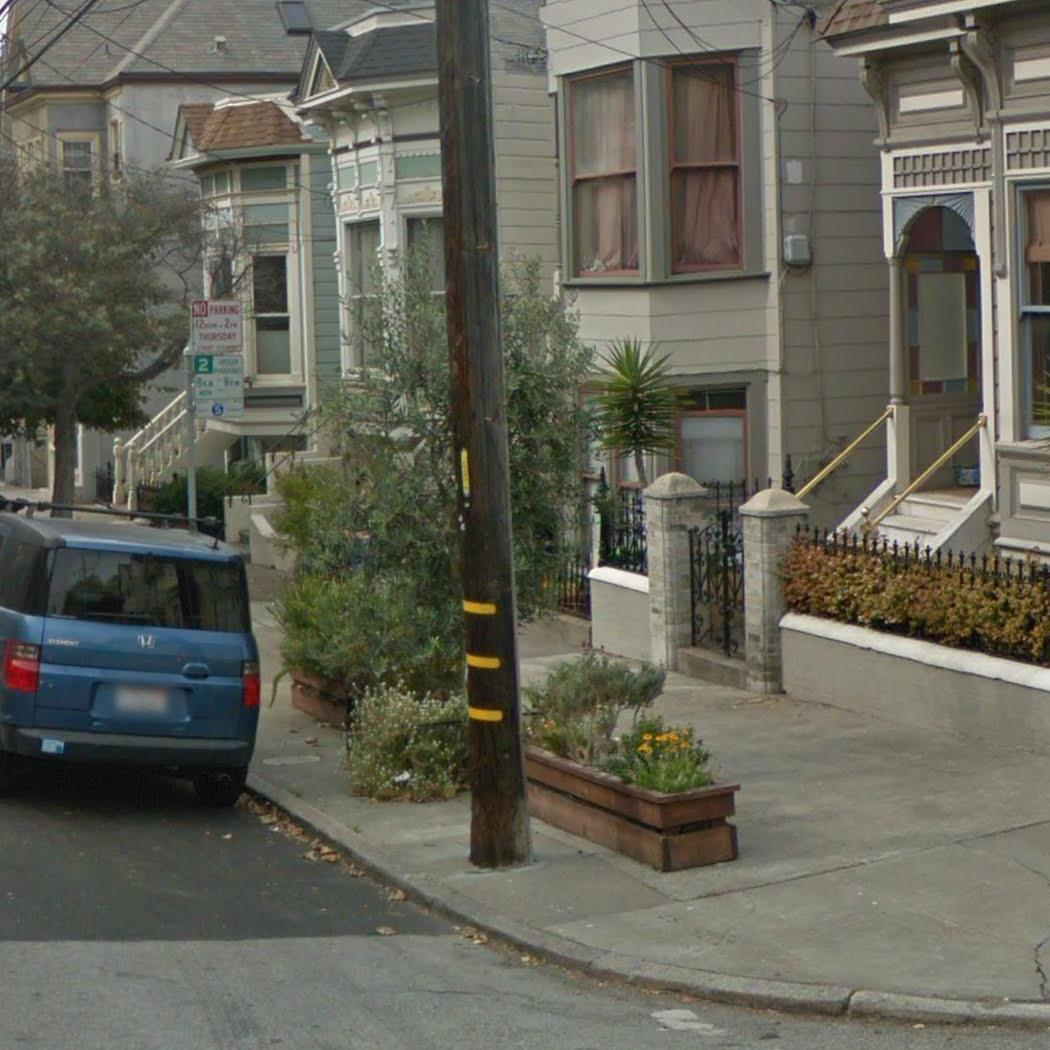2 Hour Parking: (192, 354, 246, 424)
No Parking: (190, 299, 244, 353)
